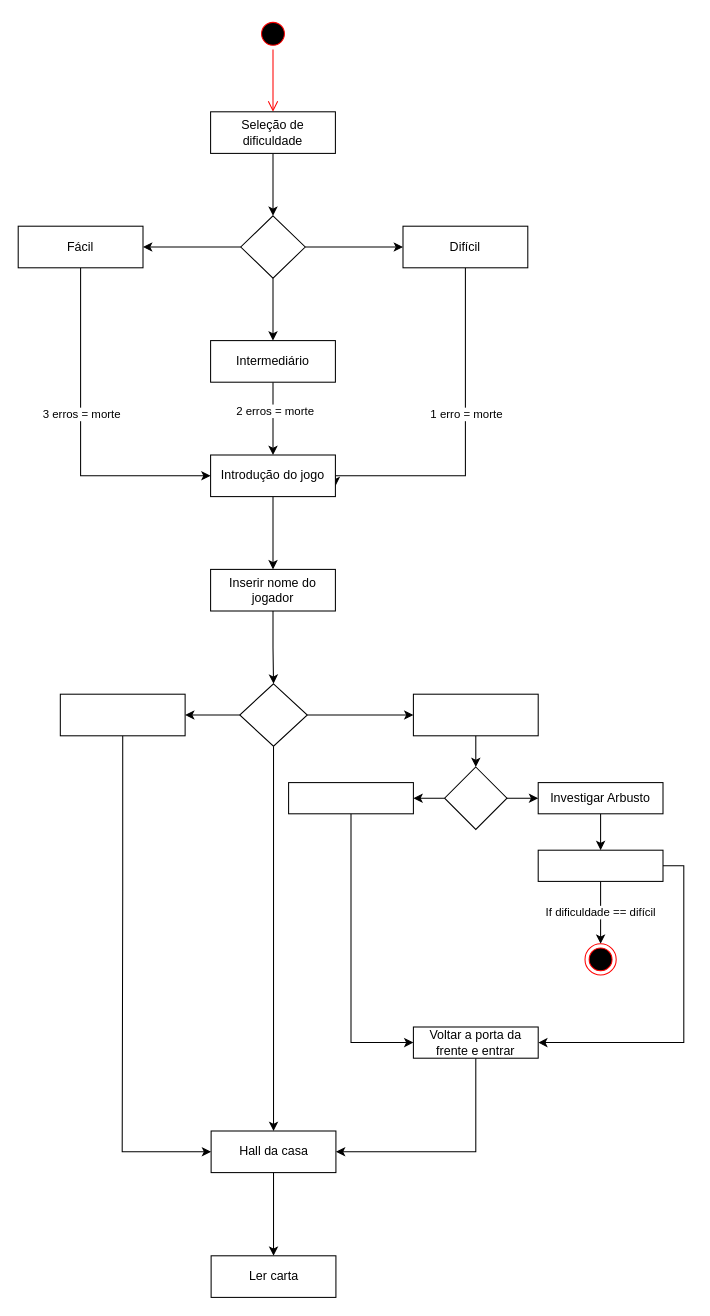
This 710x1316 diagram has some shape labels left out. Each missing label, with the centre of its shape:
-1 ponto de sorte/morte: [600,865]
Dar uma olhada em volta do terreno: [475,714]
Entrar na casa: [122,714]
Seguir seu instinto: [350,798]
variável Sorte: [272,246]
